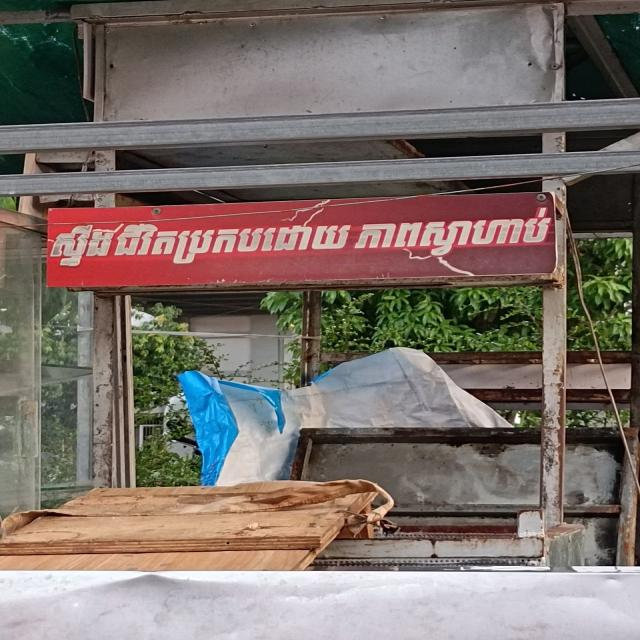Yolov11kh: (41, 200, 557, 268)
